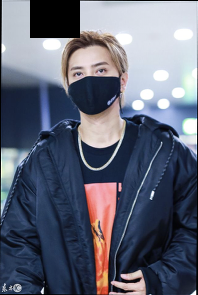with_mask: (67, 59, 121, 117)
